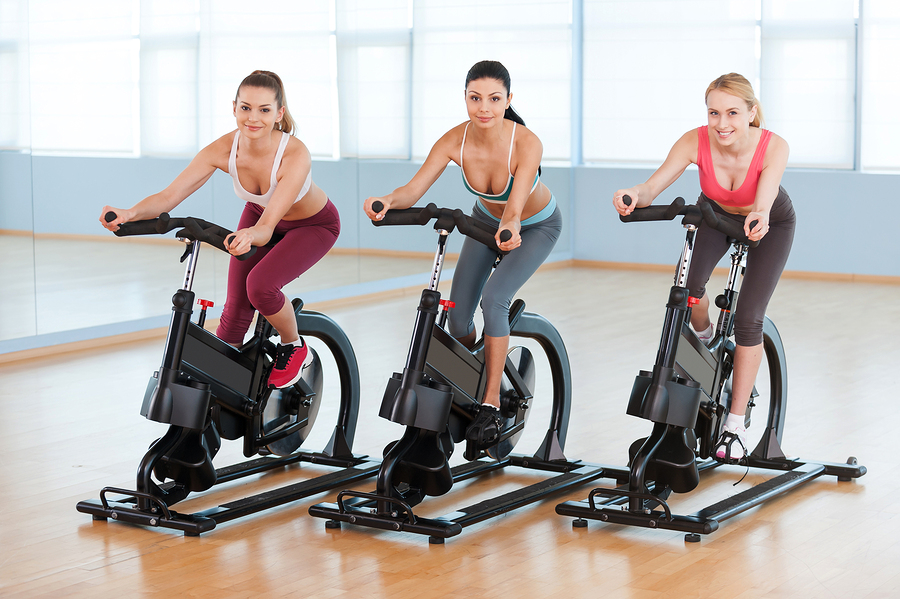gym_bike: (74, 199, 383, 533), (583, 199, 859, 548), (346, 205, 602, 553)
